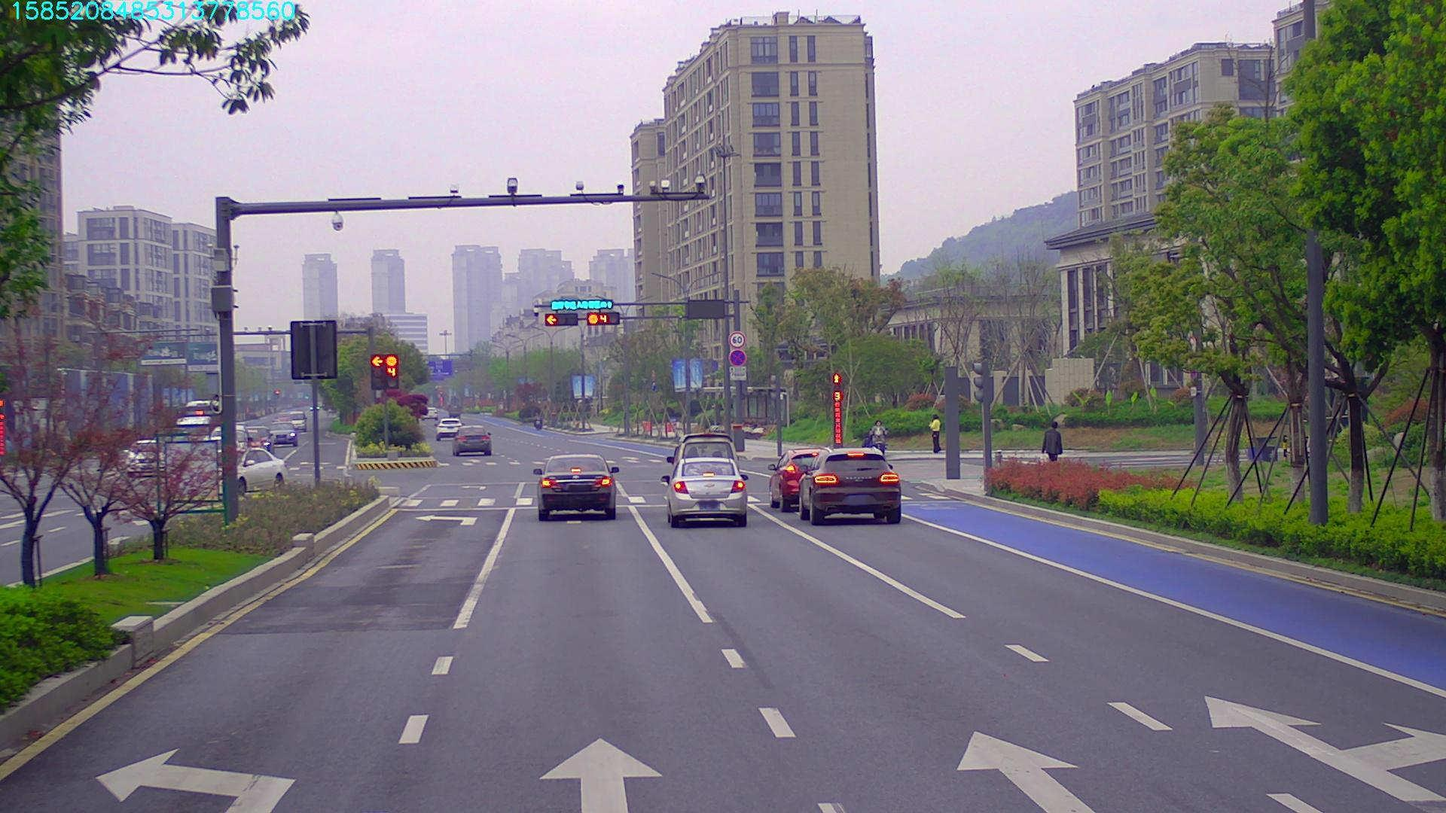red: (543, 311, 581, 327), (584, 311, 622, 326)
wait_on: (552, 297, 616, 306)
